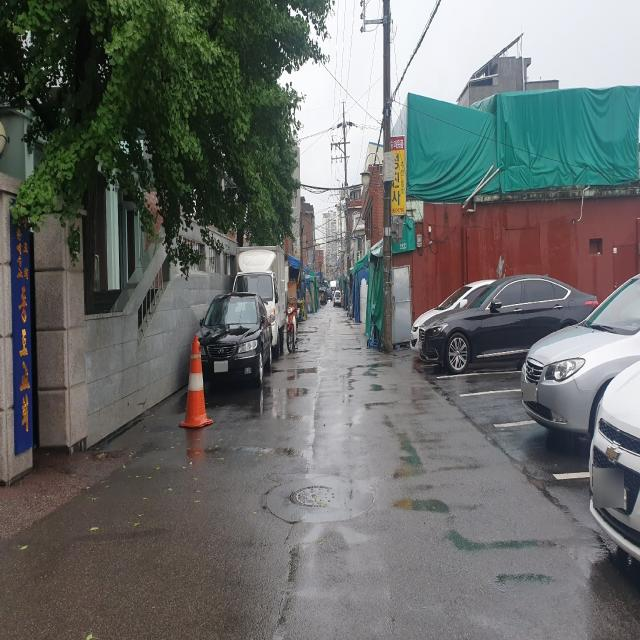car: (520, 272, 640, 436), (419, 274, 600, 368), (589, 358, 640, 575), (195, 294, 273, 386), (233, 246, 285, 356)
motorbike: (284, 297, 299, 353)
